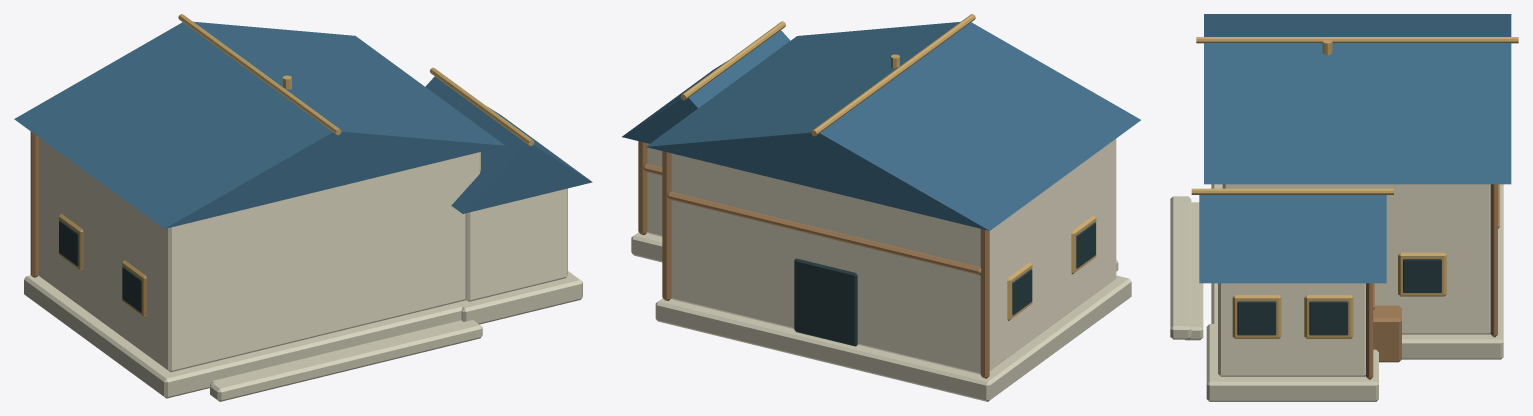
File: level_16.glb
The picture shows the model from 3 angles, left to right: view 1: azimuth 30°, elevation 25°; view 2: azimuth 150°, elevation 25°; view 3: azimuth 270°, elevation 25°; orthographic projection. The views are drawn at different scales.
Visible parts, largest first — view 1: warehouse — level 16; view 2: warehouse — level 16; view 3: warehouse — level 16.
Boxes of the visible parts, x1,y1,x2,y2 form: warehouse — level 16: (14, 14, 592, 401); warehouse — level 16: (622, 14, 1140, 401); warehouse — level 16: (1170, 14, 1518, 401).
Size of the model in its own units: 6.71 by 3.58 by 4.65.
